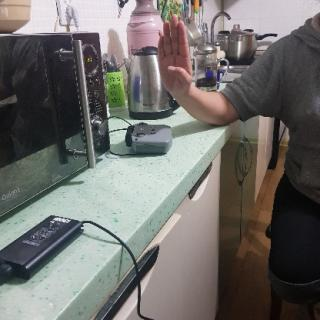KAAF: (153, 11, 198, 96)
